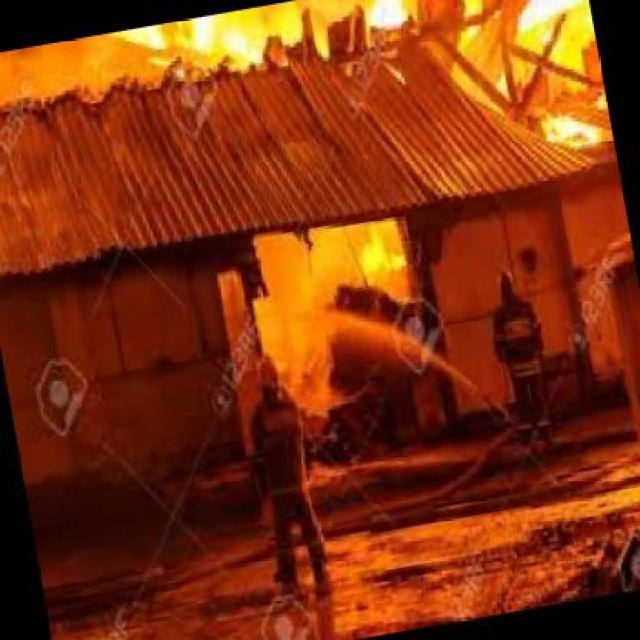Fire: (7, 0, 611, 150), (222, 220, 466, 416)
